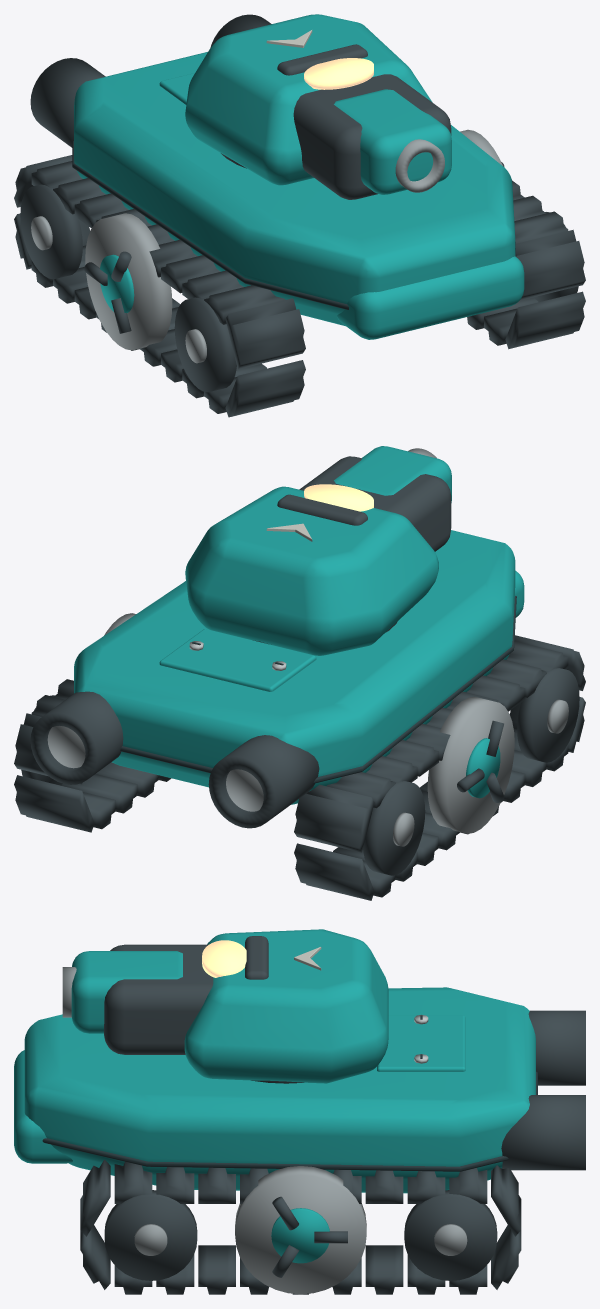
File: TOY_ZIPPER.hi.glb
3 views of the same model, one above another, from view 1: azimuth 30°, elevation 25°; view 2: azimuth 150°, elevation 25°; view 3: azimuth 270°, elevation 25° (orthographic). The views are drawn at different scales.
Visible parts, largest first — view 1: Body, TurretYaw, WheelLeft, BarrelRecoil, ChargeEye; view 2: Body, TurretYaw, WheelLeft, BarrelRecoil, ChargeEye; view 3: Body, TurretYaw, WheelRight, BarrelRecoil, ChargeEye.
Boxes of the visible parts, bbox=[...] form: Body: bbox=[14, 14, 585, 417]; TurretYaw: bbox=[185, 14, 451, 199]; WheelLeft: bbox=[84, 213, 172, 350]; BarrelRecoil: bbox=[334, 89, 451, 194]; ChargeEye: bbox=[304, 58, 373, 89]; Body: bbox=[14, 530, 585, 900]; TurretYaw: bbox=[185, 456, 451, 655]; WheelLeft: bbox=[427, 696, 514, 833]; BarrelRecoil: bbox=[334, 446, 451, 502]; ChargeEye: bbox=[304, 484, 373, 511]; Body: bbox=[14, 987, 585, 1294]; TurretYaw: bbox=[104, 929, 388, 1083]; WheelRight: bbox=[235, 1166, 366, 1294]; BarrelRecoil: bbox=[62, 951, 182, 1033]; ChargeEye: bbox=[202, 940, 246, 977].
Size of the model in its own units: 0.731 by 0.4865 by 0.973.
